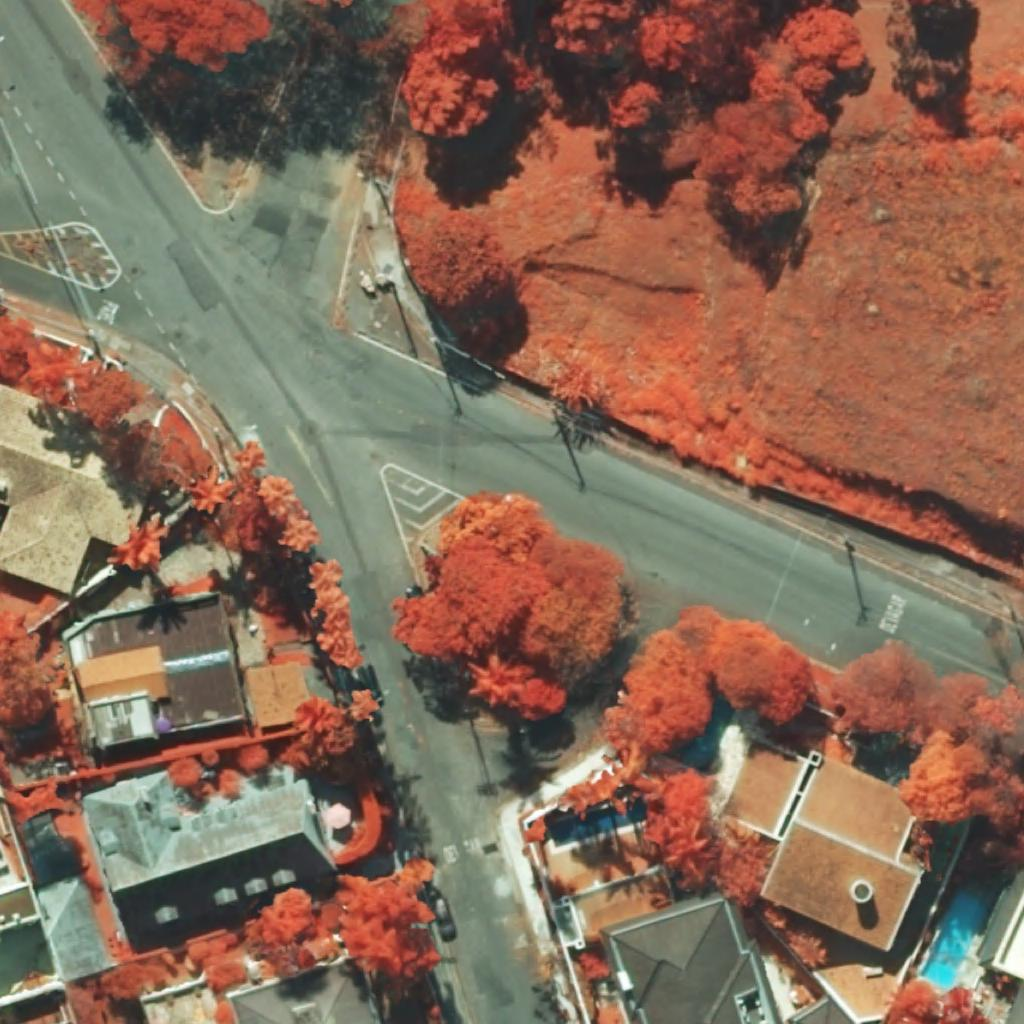pool: (920, 889, 990, 990), (550, 801, 646, 848)
